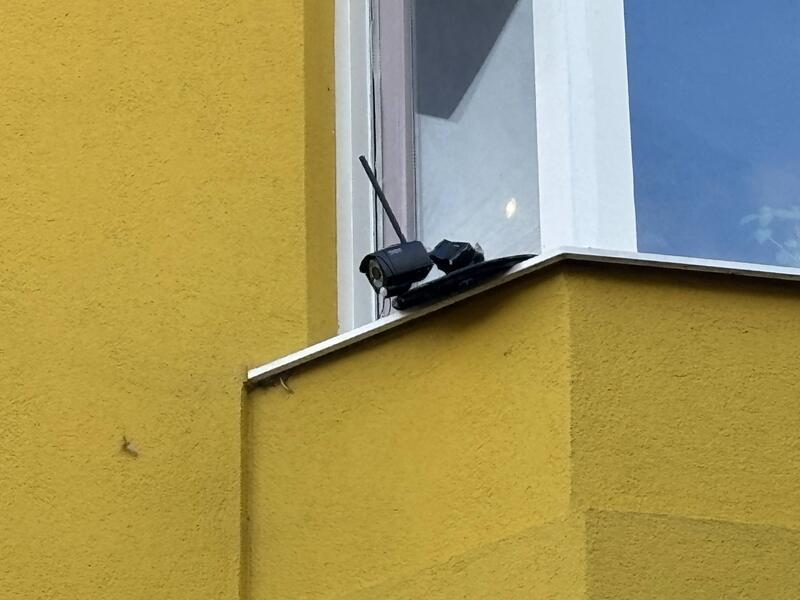bullet: (361, 235, 431, 291)
